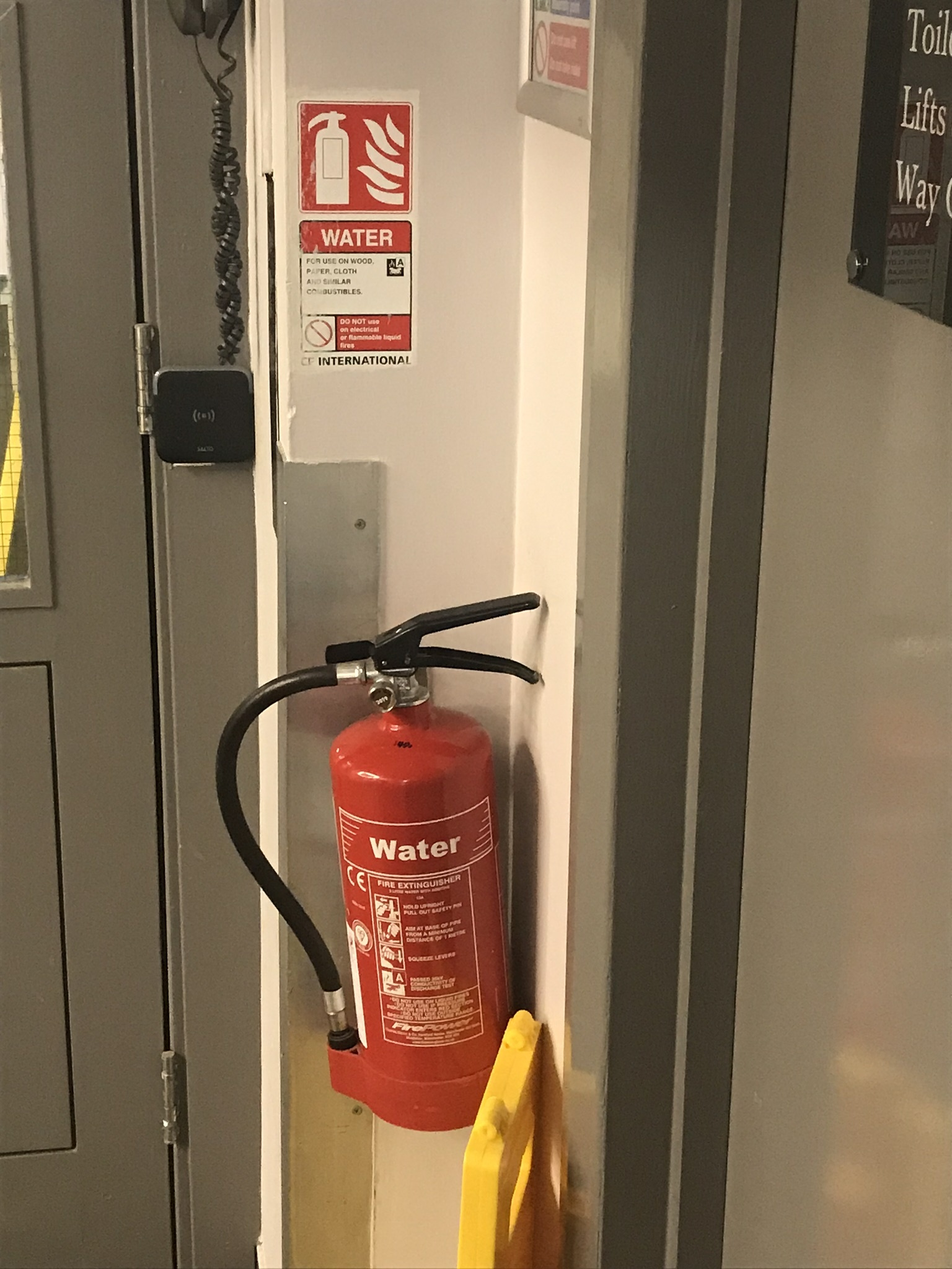fire_extinguisher: (215, 591, 544, 1133)
